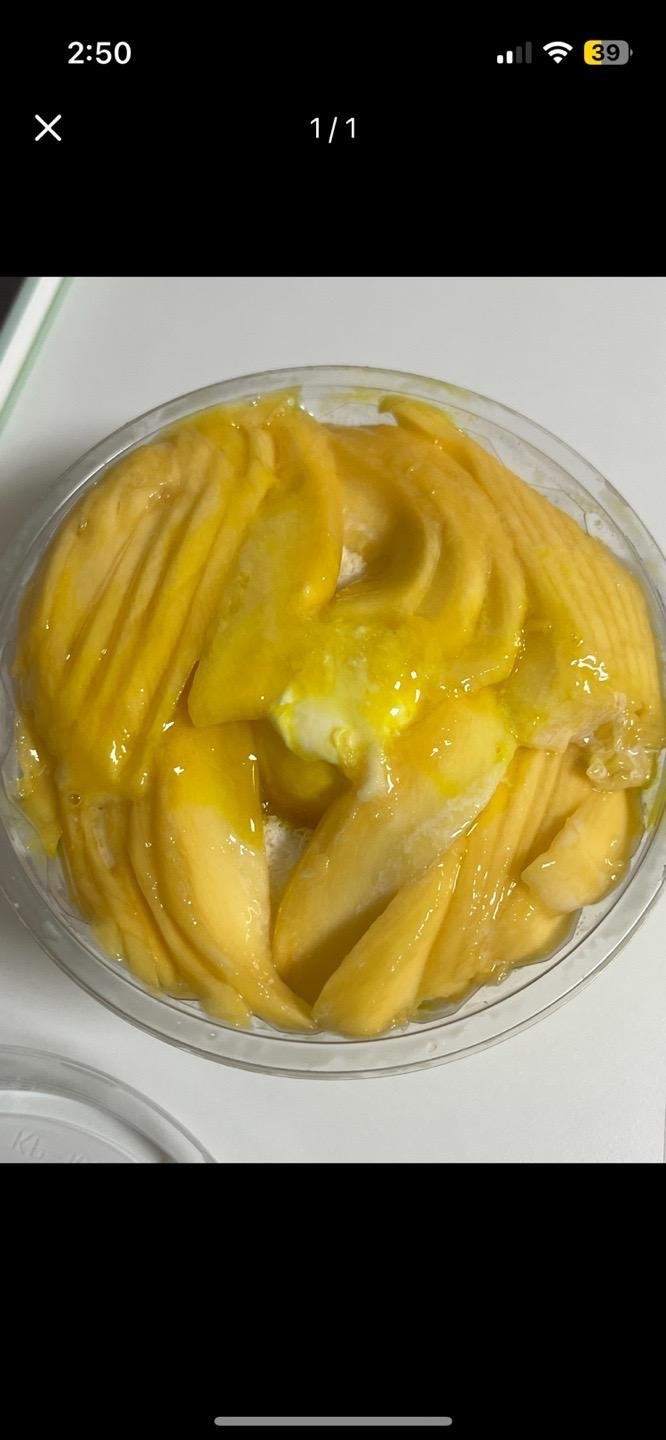Lunch Box: (0, 366, 665, 1077)
